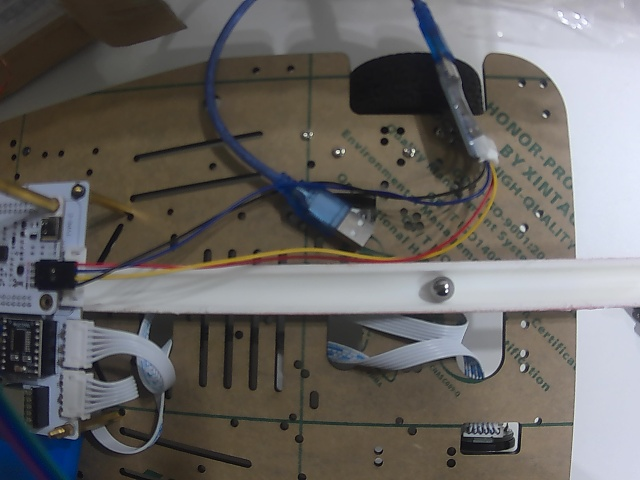steelball: (429, 276, 453, 300)
